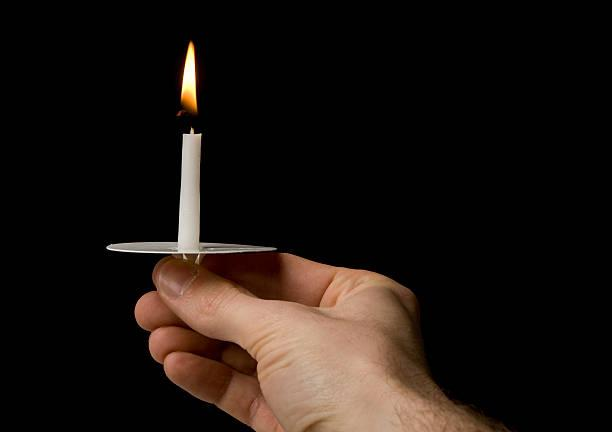Fire: (174, 40, 200, 119)
